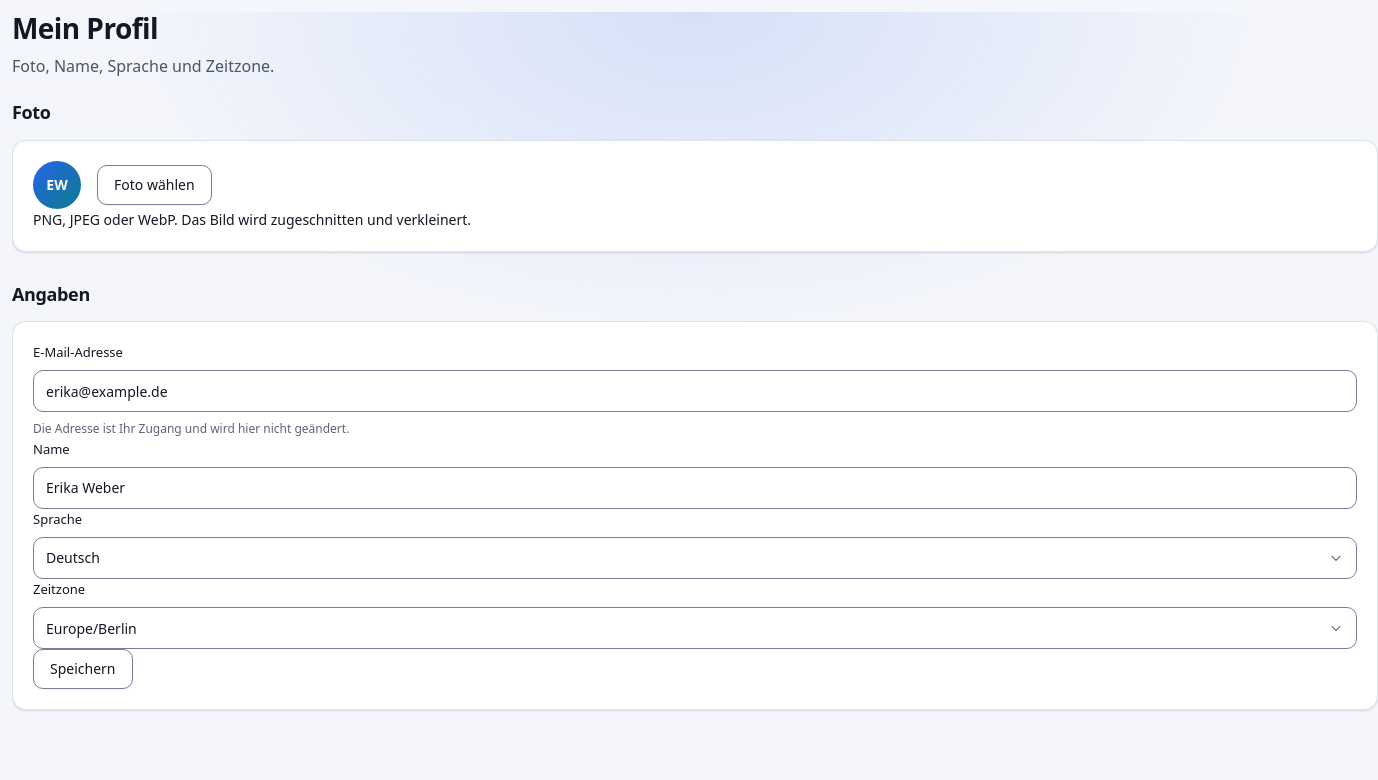
Test: ProfilePage › refuses a name that is too short without asking the server
Replace the text in the field labelled "Name" with "E": (695, 488) top-left (34, 468), bottom-right (1356, 508)
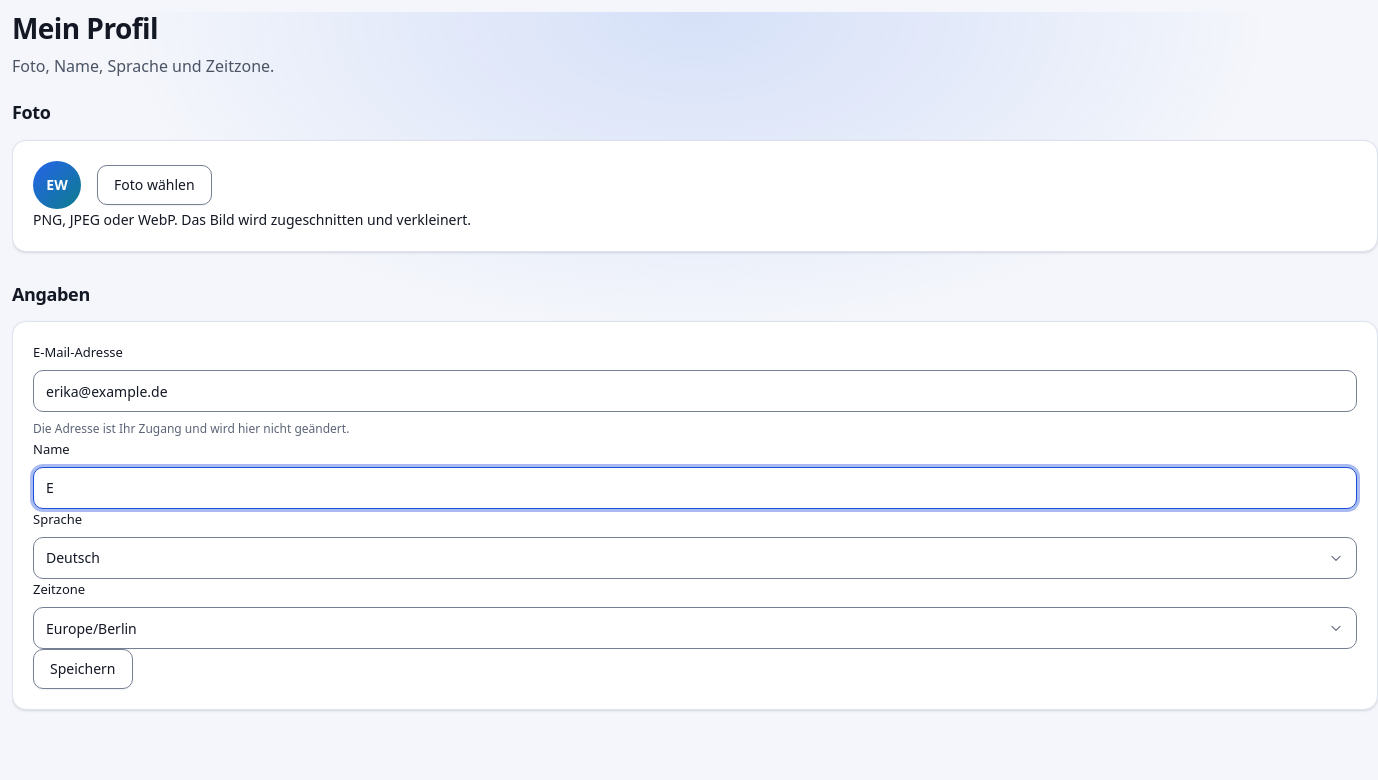
Click the button "Speichern": (83, 669) top-left (33, 649), bottom-right (132, 689)
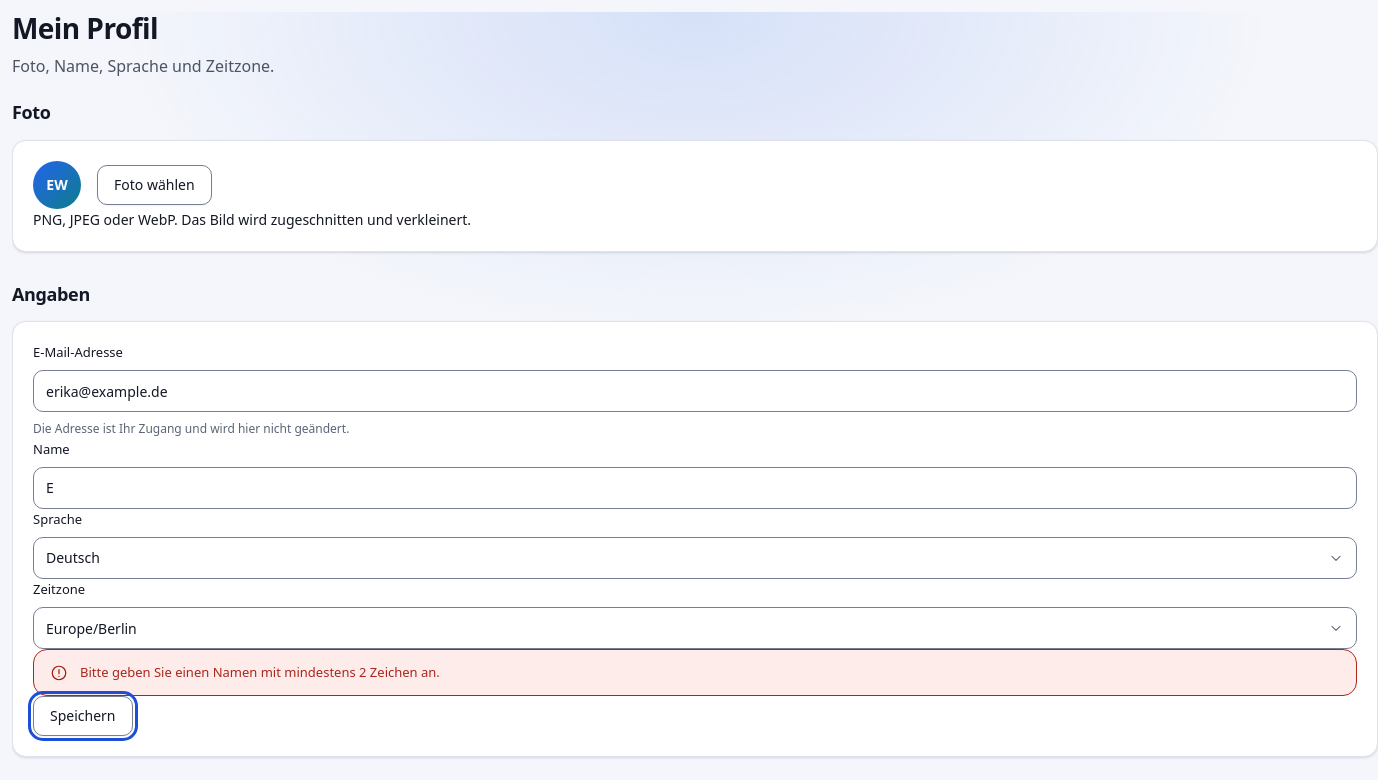
Expected: the text "Bitte geben Sie einen Namen mit mindestens 2 Zeichen an." is shown, top-left (80, 663), bottom-right (440, 681)
